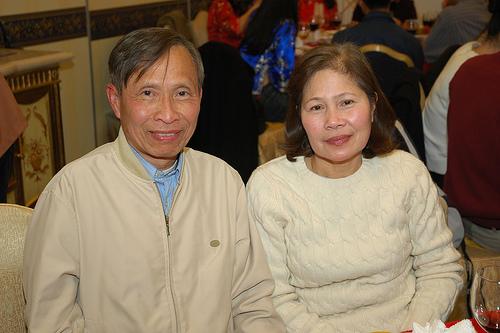without_mask: (109, 42, 210, 159), (291, 68, 385, 164)
